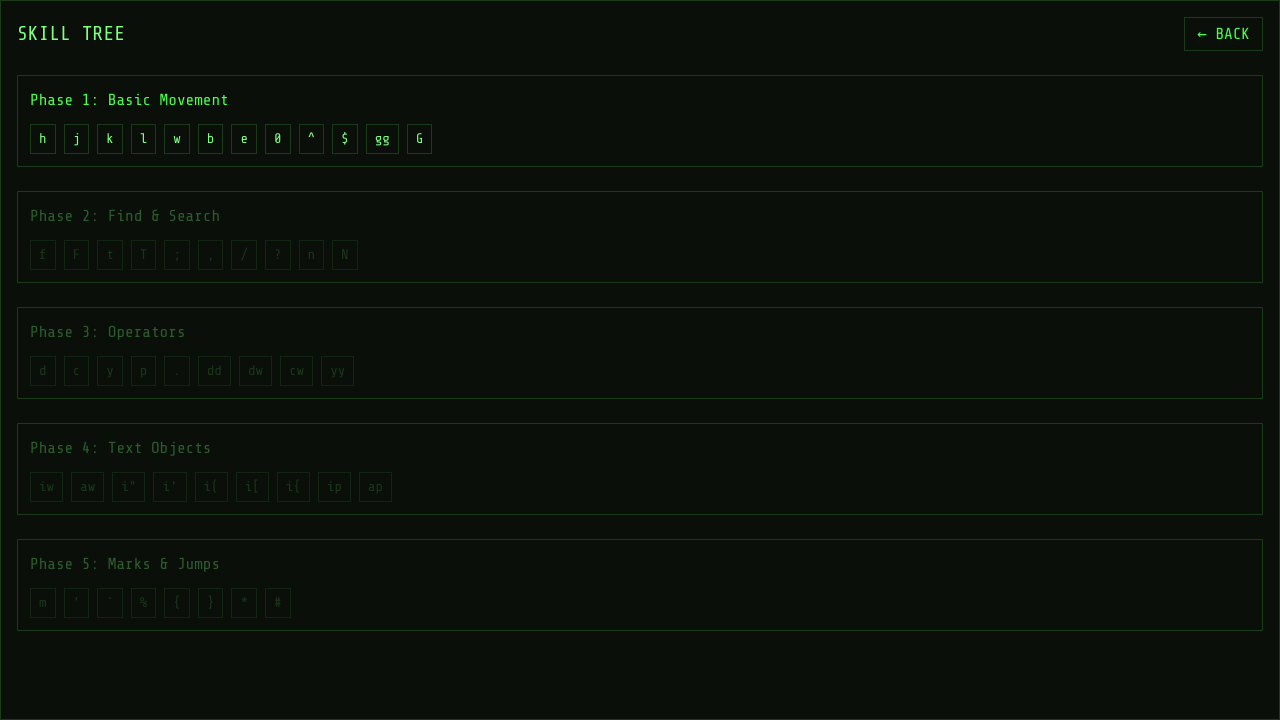
Test: SkillTreeScreen › clicking a motion node shows usage count tooltip
This screenshot has width=1280, height=720.
Click the button with test id "motion-h": (43, 139) [30, 124, 56, 154]
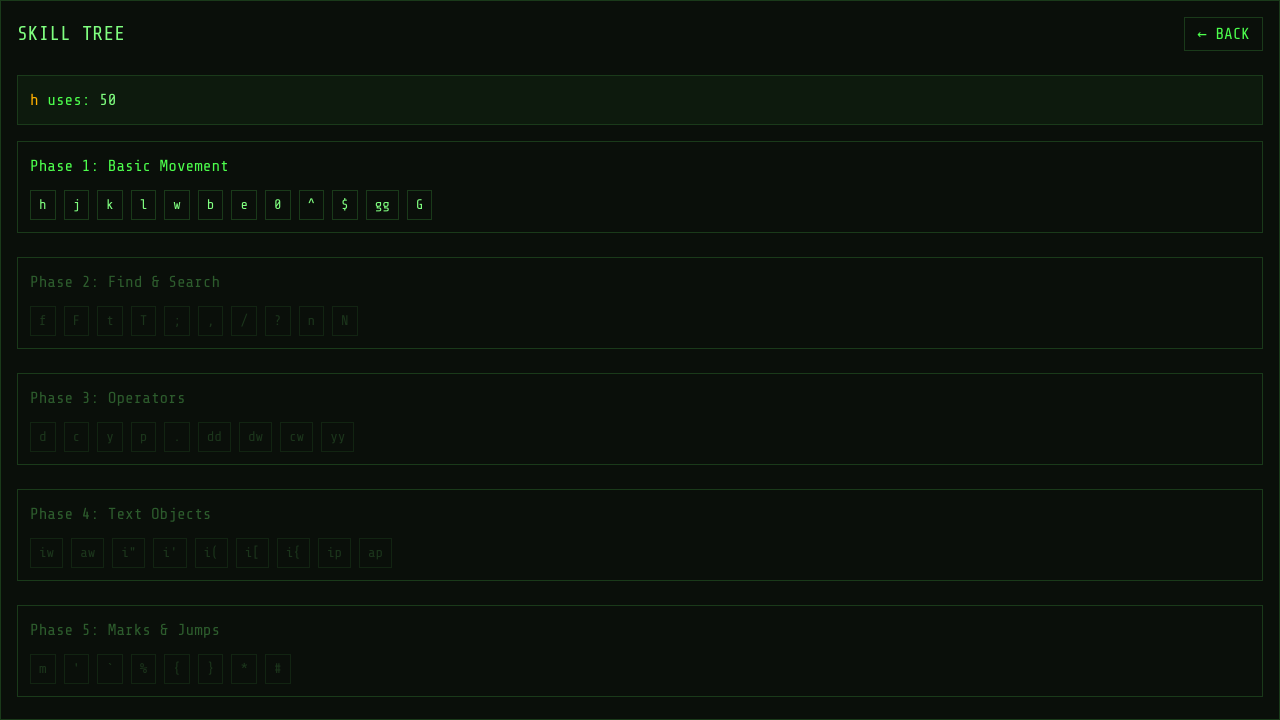
Check: the element with test id "motion-tooltip" is shown, box [17, 75, 1263, 125]
Check: the text "50" is shown, box [99, 91, 116, 109]
